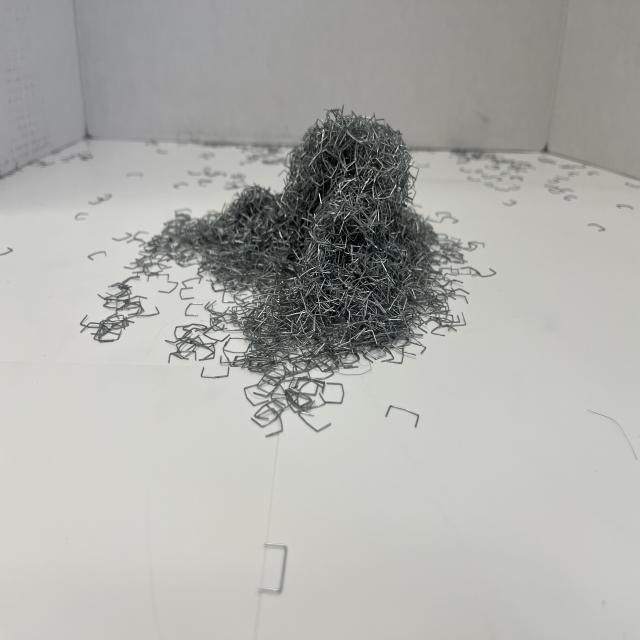staples: (84, 104, 481, 382)
